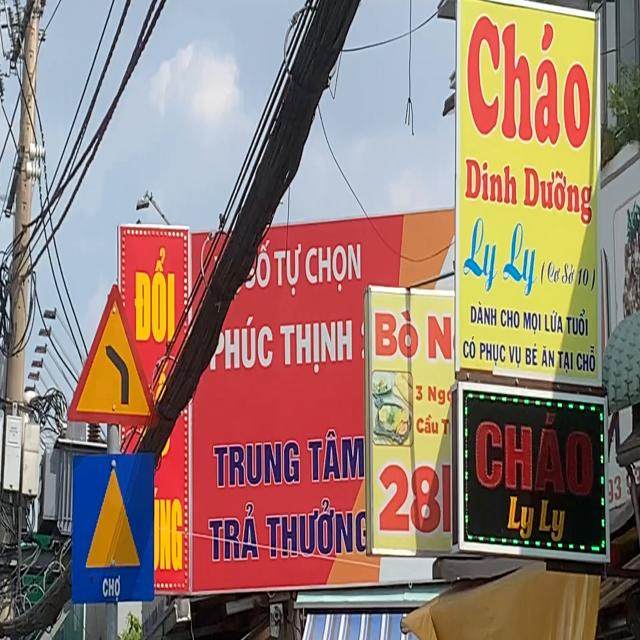Nguy hiem: (62, 269, 158, 430)
